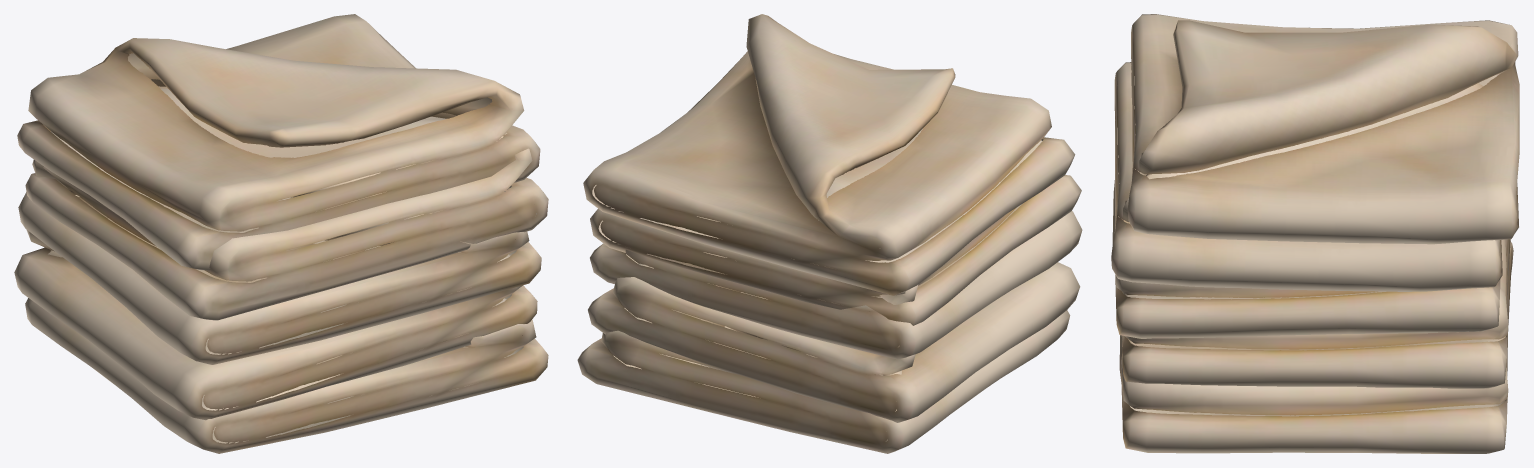
3 views of the same model, side by side, from view 1: azimuth 30°, elevation 25°; view 2: azimuth 150°, elevation 25°; view 3: azimuth 270°, elevation 25° (orthographic). The views are drawn at different scales.
Visible parts, largest first — view 1: SM_Cloth_Wool_Pile_LOD0; view 2: SM_Cloth_Wool_Pile_LOD0; view 3: SM_Cloth_Wool_Pile_LOD0.
Boxes of the visible parts, box(x1,y1,x2,y2) form: SM_Cloth_Wool_Pile_LOD0: box(14, 14, 548, 453); SM_Cloth_Wool_Pile_LOD0: box(577, 14, 1082, 453); SM_Cloth_Wool_Pile_LOD0: box(1111, 14, 1519, 453).
Size of the model in its own units: 0.5741 by 0.4345 by 0.5086.
1 material, 1 textured.
